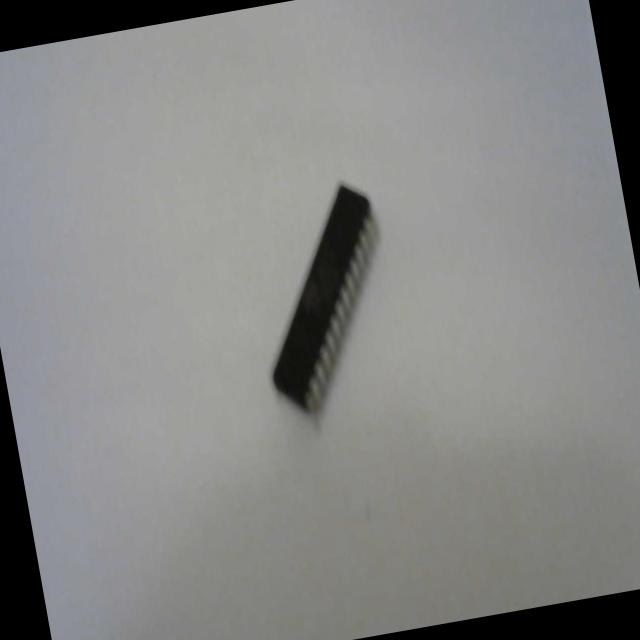atmega: (237, 172, 412, 426)
